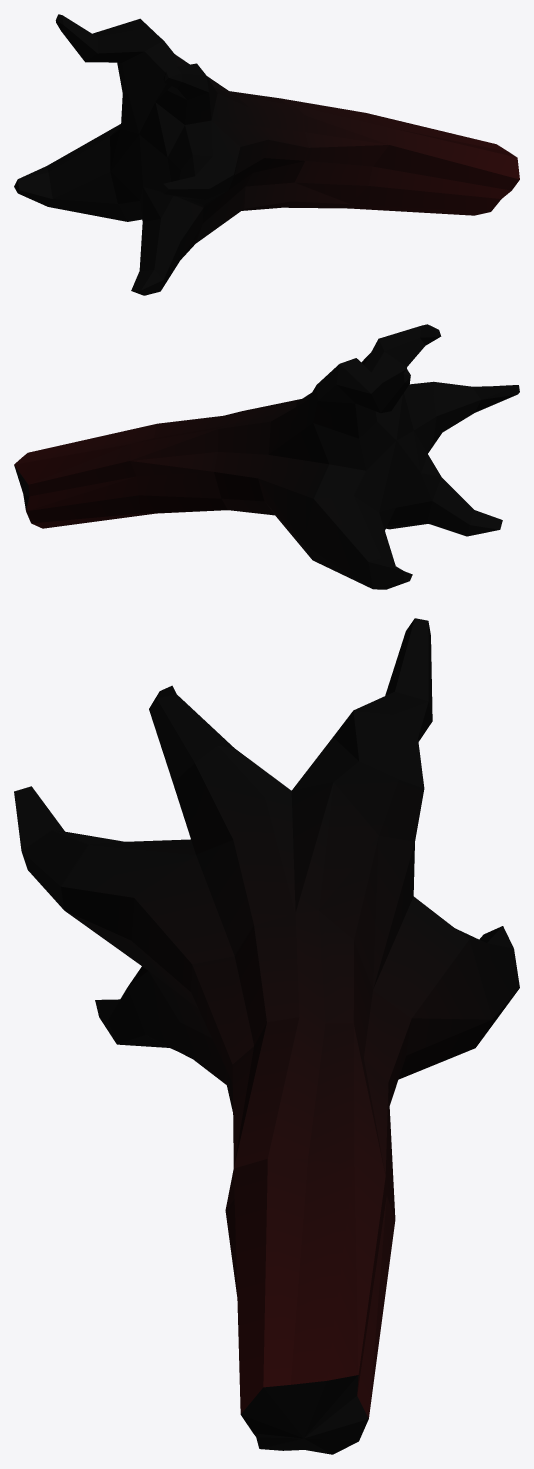
The model's file is SM_Env_DriftWood_05.gltf.
3 renders of one model, top to bottom at view 1: azimuth 30°, elevation 25°; view 2: azimuth 150°, elevation 25°; view 3: azimuth 270°, elevation 25°, orthographic. The views are drawn at different scales.
Visible parts, largest first — view 1: SM_Env_DriftWood_05; view 2: SM_Env_DriftWood_05; view 3: SM_Env_DriftWood_05.
Boxes of the visible parts, x1,y1,x2,y2 form: SM_Env_DriftWood_05: [14, 14, 519, 295]; SM_Env_DriftWood_05: [14, 324, 519, 589]; SM_Env_DriftWood_05: [14, 618, 519, 1454].
Size of the model in its own units: 3.84 by 2.23 by 2.07.
